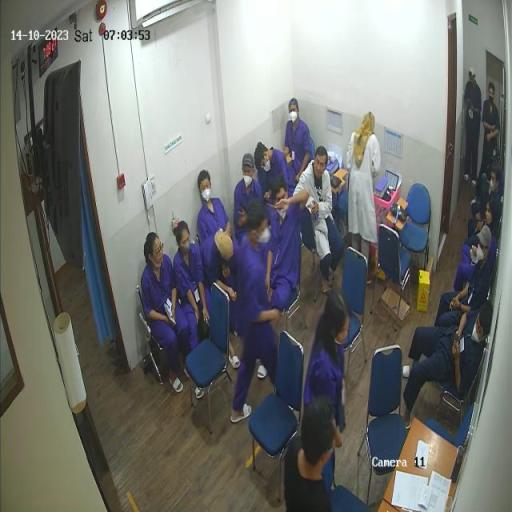person: (402, 303, 494, 430), (233, 204, 283, 420), (304, 288, 352, 494), (141, 232, 190, 393), (294, 147, 345, 294), (264, 178, 310, 336), (198, 172, 243, 327), (174, 221, 211, 399), (347, 112, 382, 285), (435, 226, 493, 330), (286, 396, 336, 512), (199, 228, 240, 367), (454, 197, 499, 296), (471, 83, 501, 206), (234, 153, 263, 275), (256, 142, 295, 223), (284, 99, 313, 196), (468, 167, 502, 241), (473, 148, 504, 220), (465, 68, 483, 189)
